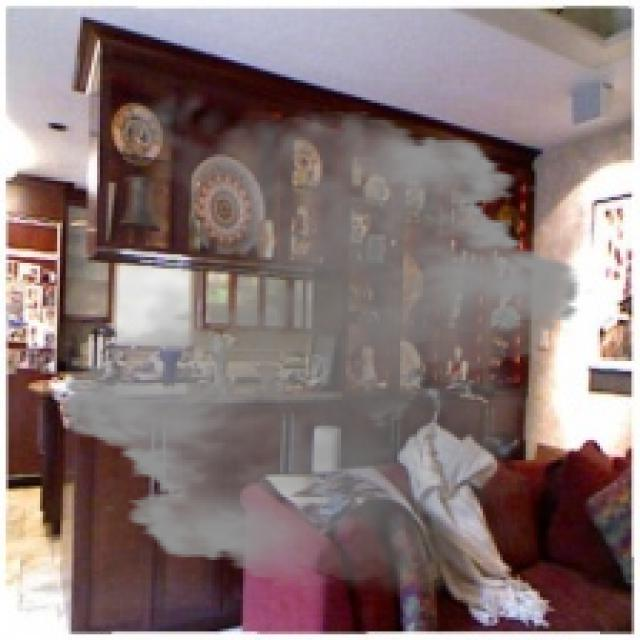smoke: (46, 74, 597, 609)
